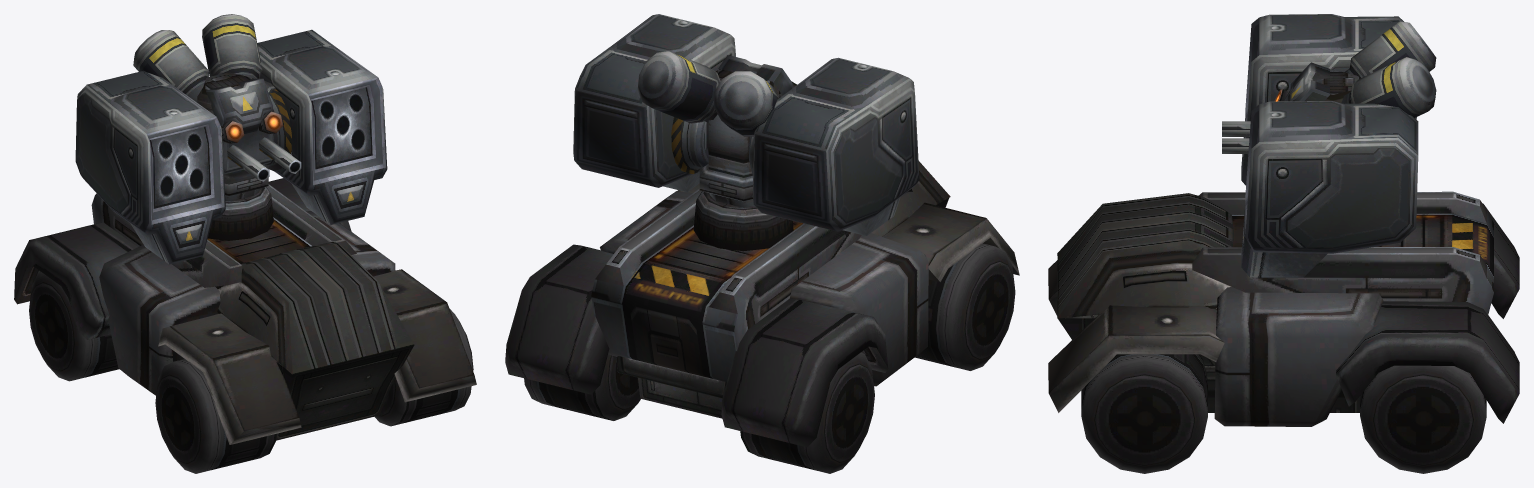
File: Torrent.glb
The picture shows the model from 3 angles, left to right: view 1: azimuth 30°, elevation 25°; view 2: azimuth 150°, elevation 25°; view 3: azimuth 270°, elevation 25°; orthographic projection. The views are drawn at different scales.
Visible parts, largest first — view 1: Mesh; view 2: Mesh; view 3: Mesh.
Part boxes in pixels (x1,y1,x2,y2): Mesh: (14, 14, 476, 473); Mesh: (505, 14, 1019, 473); Mesh: (1048, 14, 1519, 473).
Size of the model in its own units: 1.15 by 1.29 by 1.52.
Materials: 1 (1 with a texture image).
